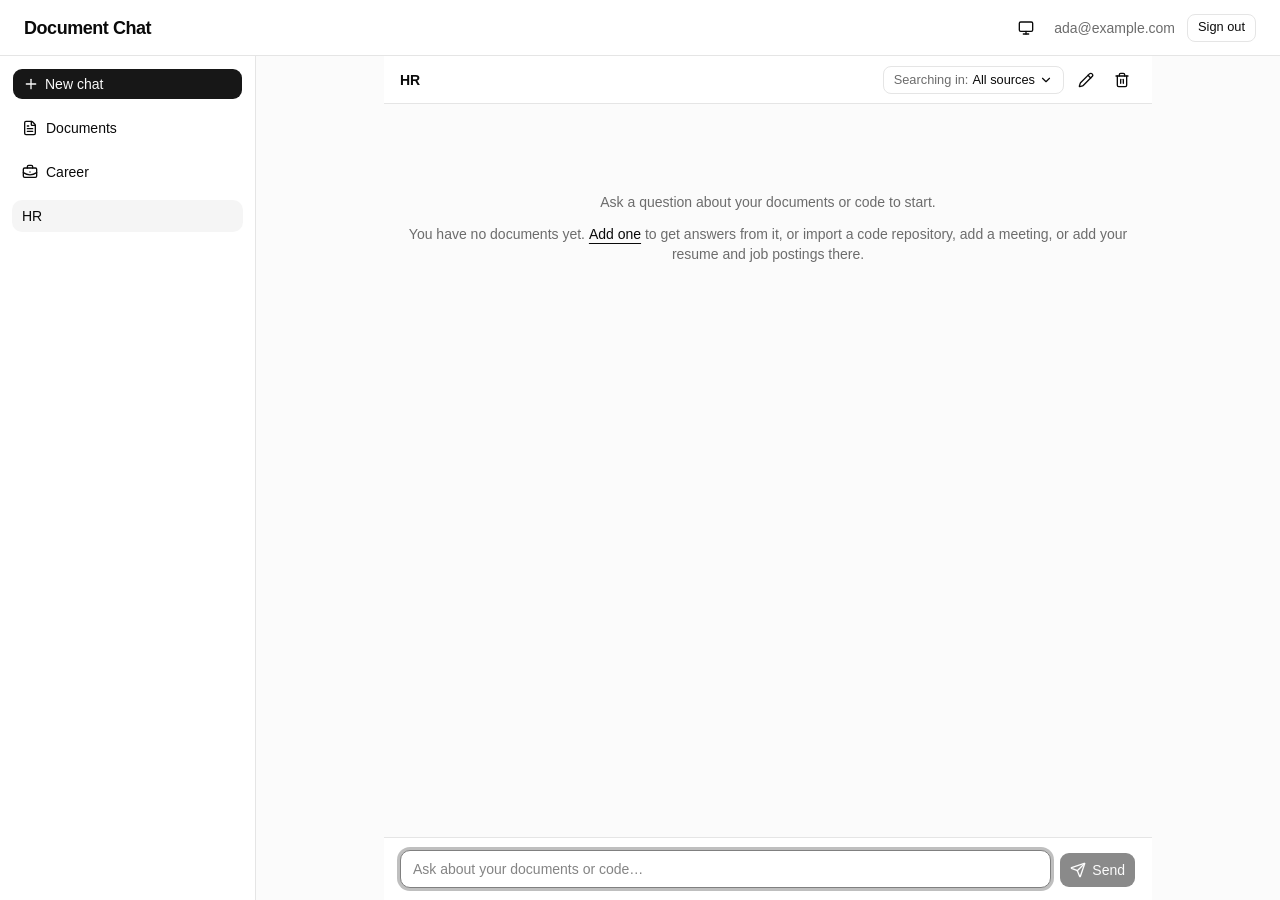
Test: choosing the sources of a chat › the list › says so when the library is empty
The width and height of the screenshot is (1280, 900).
Click the button "Searching in: All sources". click: {"x": 973, "y": 80}
box: [883, 66, 1064, 94]
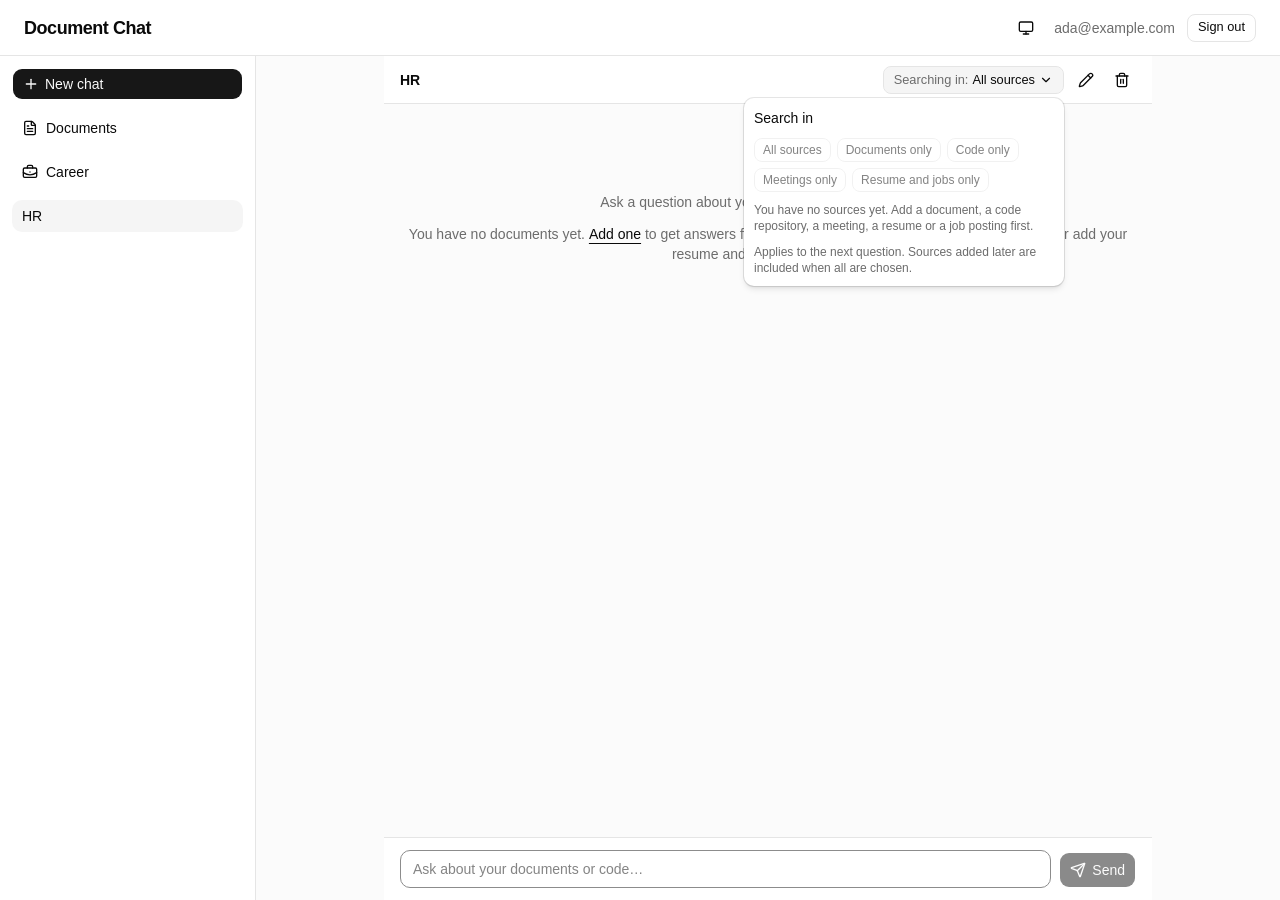
Expected: the text "You have no sources yet" is shown, [754, 203, 1033, 233]
